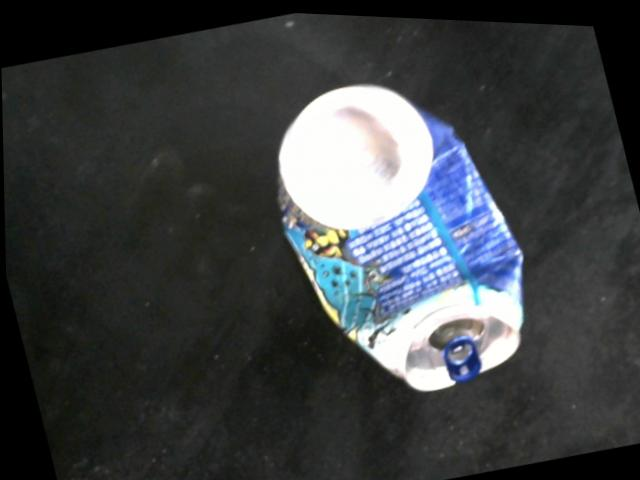can: (273, 79, 526, 391)
